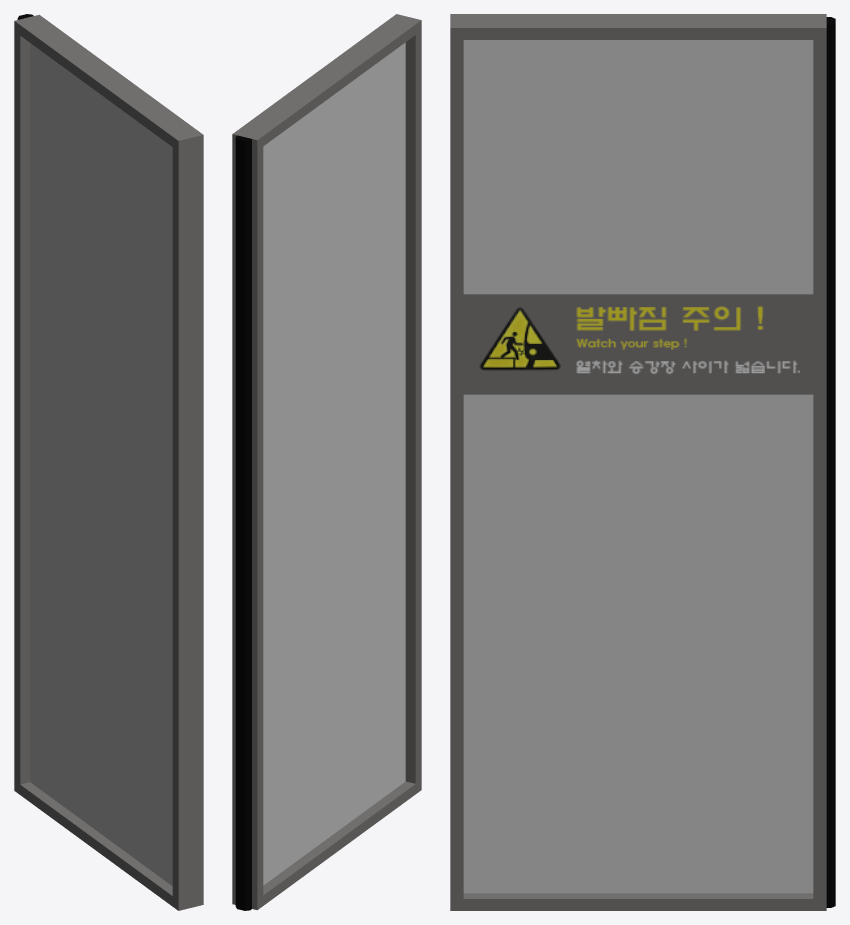
Rendered from Line9_ScreenDoor_L.FBX.
The picture shows the model from 3 angles, left to right: view 1: azimuth 30°, elevation 25°; view 2: azimuth 150°, elevation 25°; view 3: azimuth 270°, elevation 25°; orthographic projection. The views are drawn at different scales.
Parts seen in each view (by area): view 1: Line9_ScreenDoor_L; view 2: Line9_ScreenDoor_L; view 3: Line9_ScreenDoor_L.
Boxes of the visible parts, left/top/right/bottom form: Line9_ScreenDoor_L: left=14, top=14, right=203, bottom=910; Line9_ScreenDoor_L: left=232, top=14, right=421, bottom=910; Line9_ScreenDoor_L: left=450, top=14, right=835, bottom=910.
Bounding box in the file's own units: 7.5 × 87 × 220.
